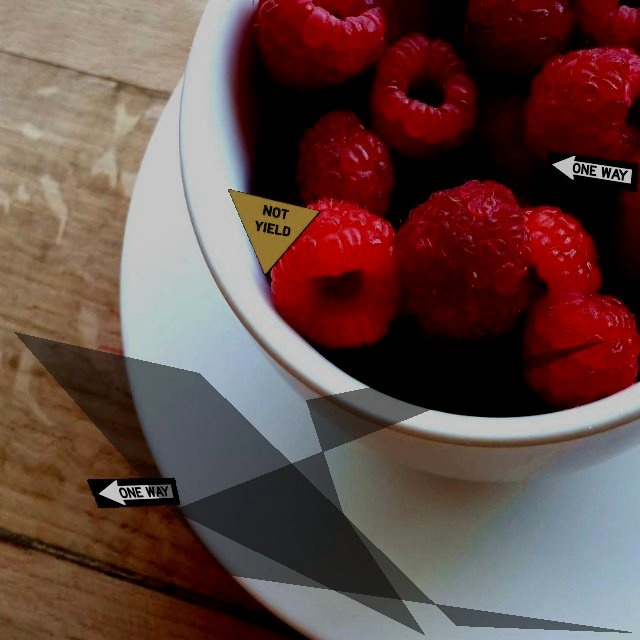NOT_YIELD: (227, 188, 321, 276)
ONE_WAY_ left: (545, 150, 639, 192), (86, 477, 180, 508)
